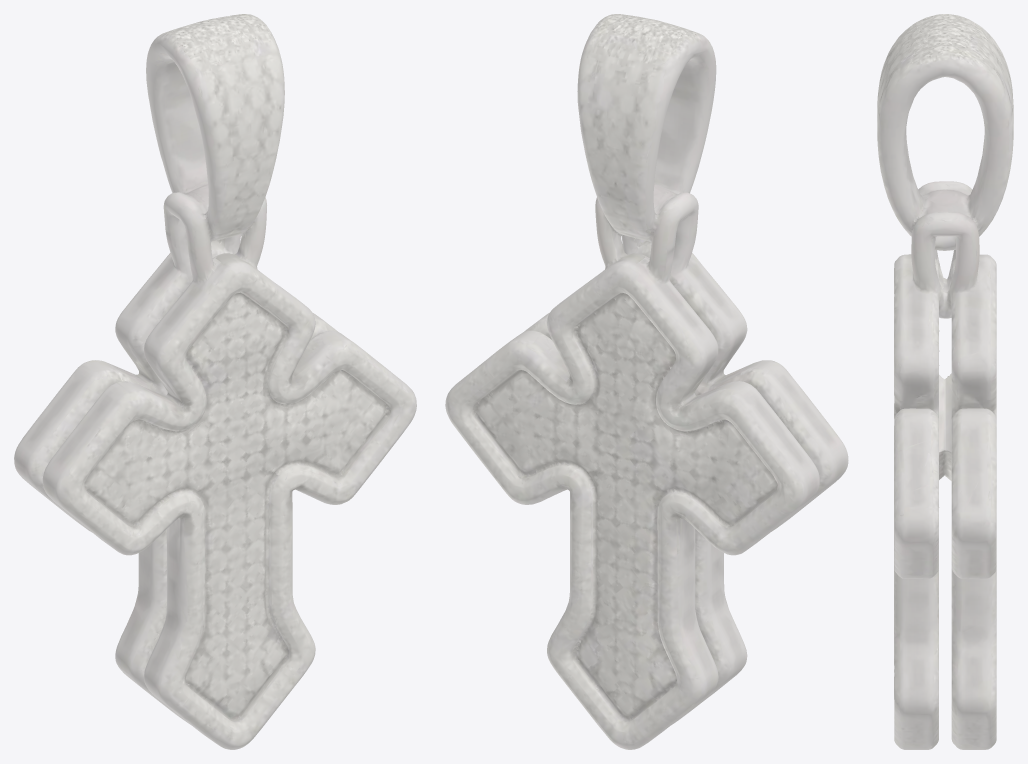
File: cross.glb
3 renders of one model, left to right at view 1: azimuth 30°, elevation 25°; view 2: azimuth 150°, elevation 25°; view 3: azimuth 270°, elevation 25°, orthographic.
Visible parts, largest first — view 1: Mesh_0; view 2: Mesh_0; view 3: Mesh_0.
Boxes of the visible parts, box(x1,y1,x2,y2) form: Mesh_0: box(14, 14, 416, 749); Mesh_0: box(445, 14, 848, 749); Mesh_0: box(877, 14, 1013, 749).
Size of the model in its own units: 1.01 by 1.9 by 0.3273.
1 material, 1 textured.
